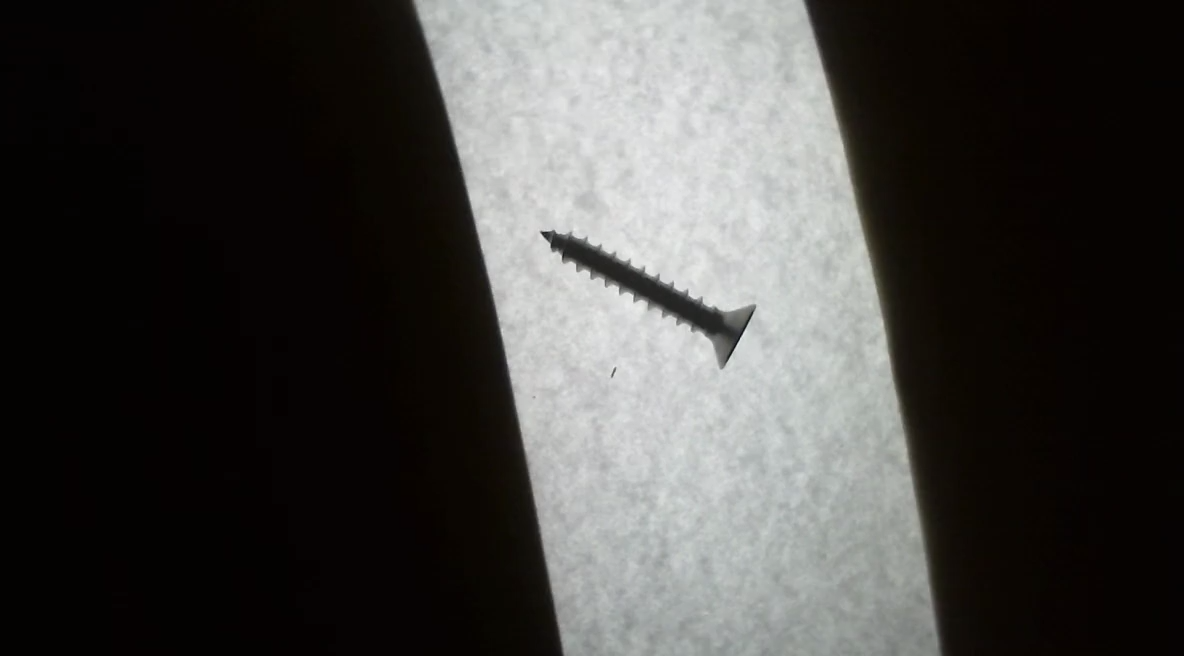S001: (525, 217, 779, 380)
